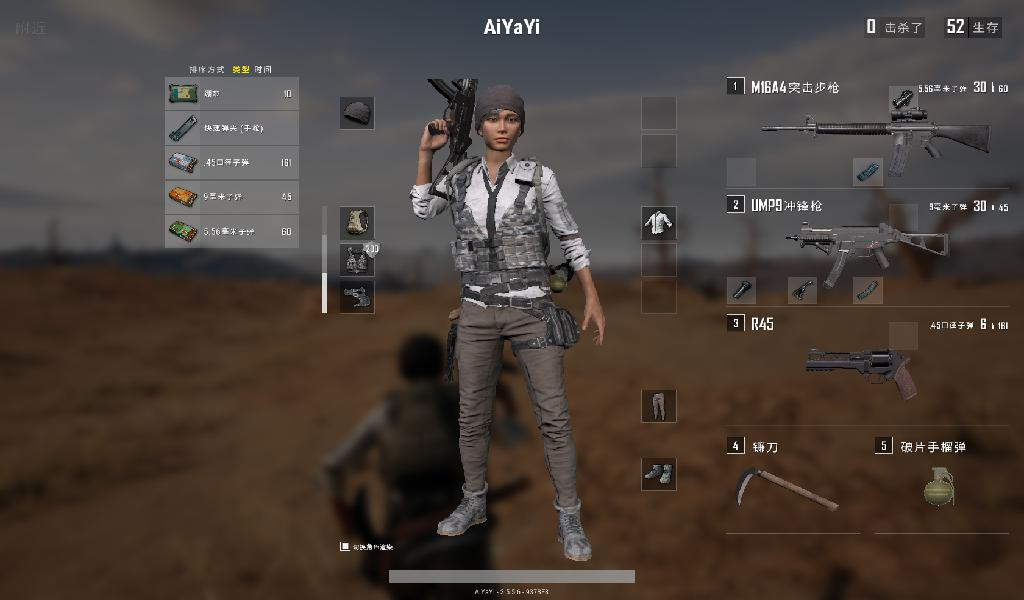Target Person: (413, 79, 610, 566)
